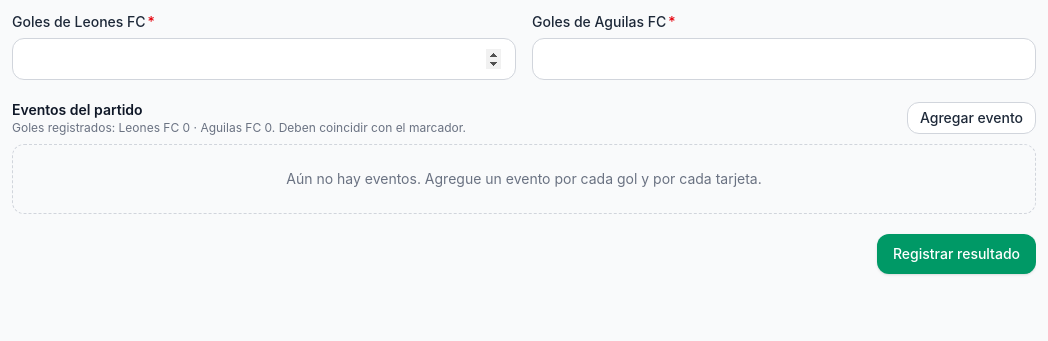
ResultForm › blocks the submission when the goals do not match the score
This screenshot has width=1048, height=341.
In the number field labelled "Goles de Leones FC*": (264, 59) x1=12 y1=38 x2=516 y2=80, type "1"
In the number field labelled "Goles de Aguilas FC*": (784, 59) x1=532 y1=38 x2=1036 y2=80, type "0"
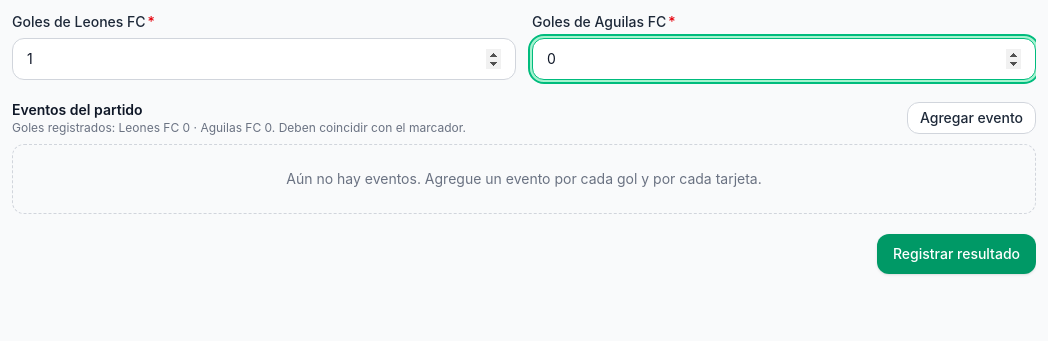
Click the button "Agregar evento": (971, 118) x1=907 y1=102 x2=1036 y2=134
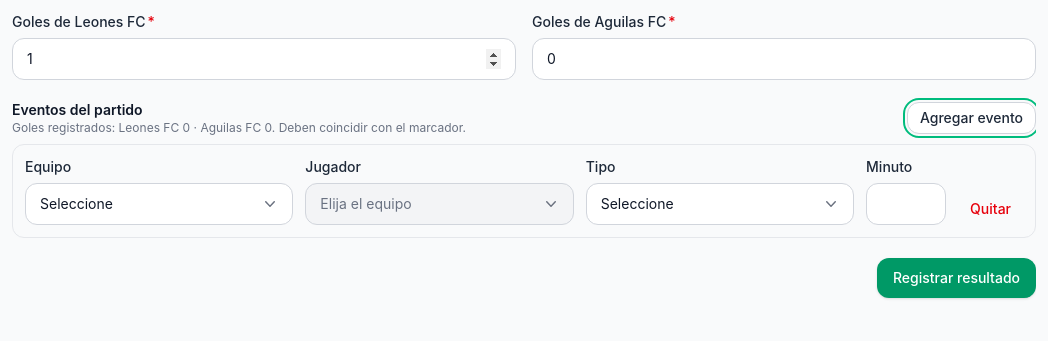
Select "Aguilas FC" in the dropdown labelled "Equipo": (159, 204) x1=25 y1=183 x2=293 y2=225
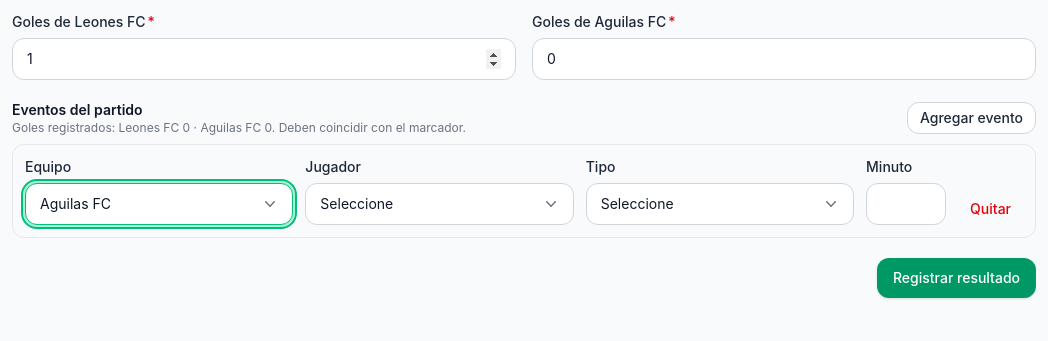
Select "#11 Mateo Vargas" in the dropdown labelled "Jugador": (440, 204) x1=305 y1=183 x2=574 y2=225
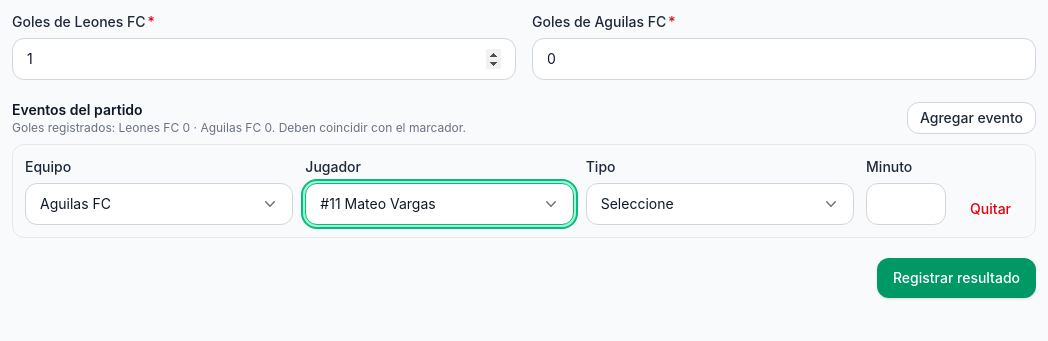
Select "Gol" in the dropdown labelled "Tipo": (720, 204) x1=586 y1=183 x2=854 y2=225
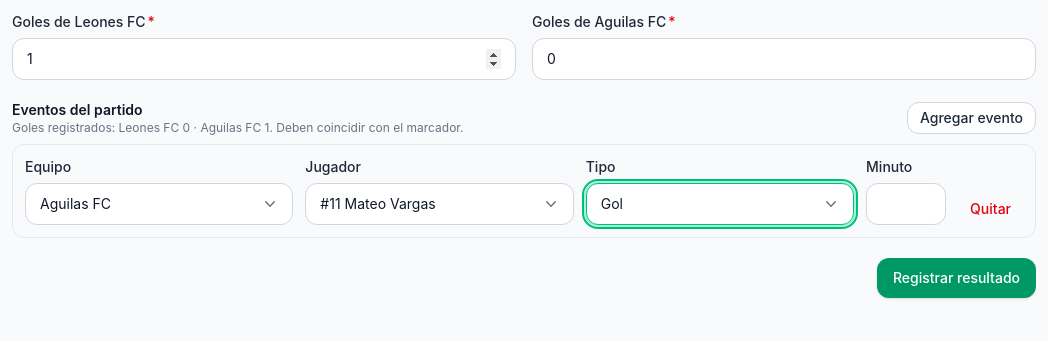
Click the button "Registrar resultado": (956, 278) x1=877 y1=258 x2=1036 y2=298
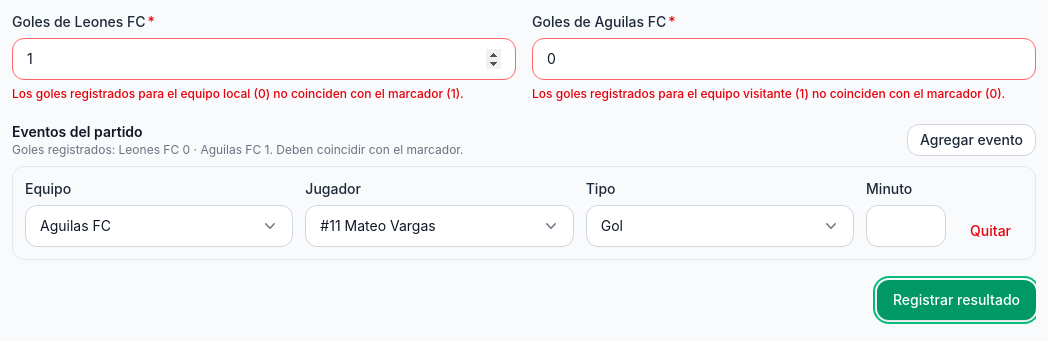
Expected: the text "no coinciden con el marcador" is shown 2 times, x1=12 y1=86 x2=516 y2=102; x1=532 y1=86 x2=1036 y2=102
